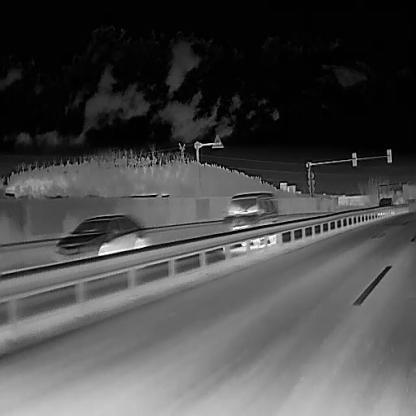car: (52, 213, 151, 263), (218, 191, 279, 248), (375, 197, 394, 215)
